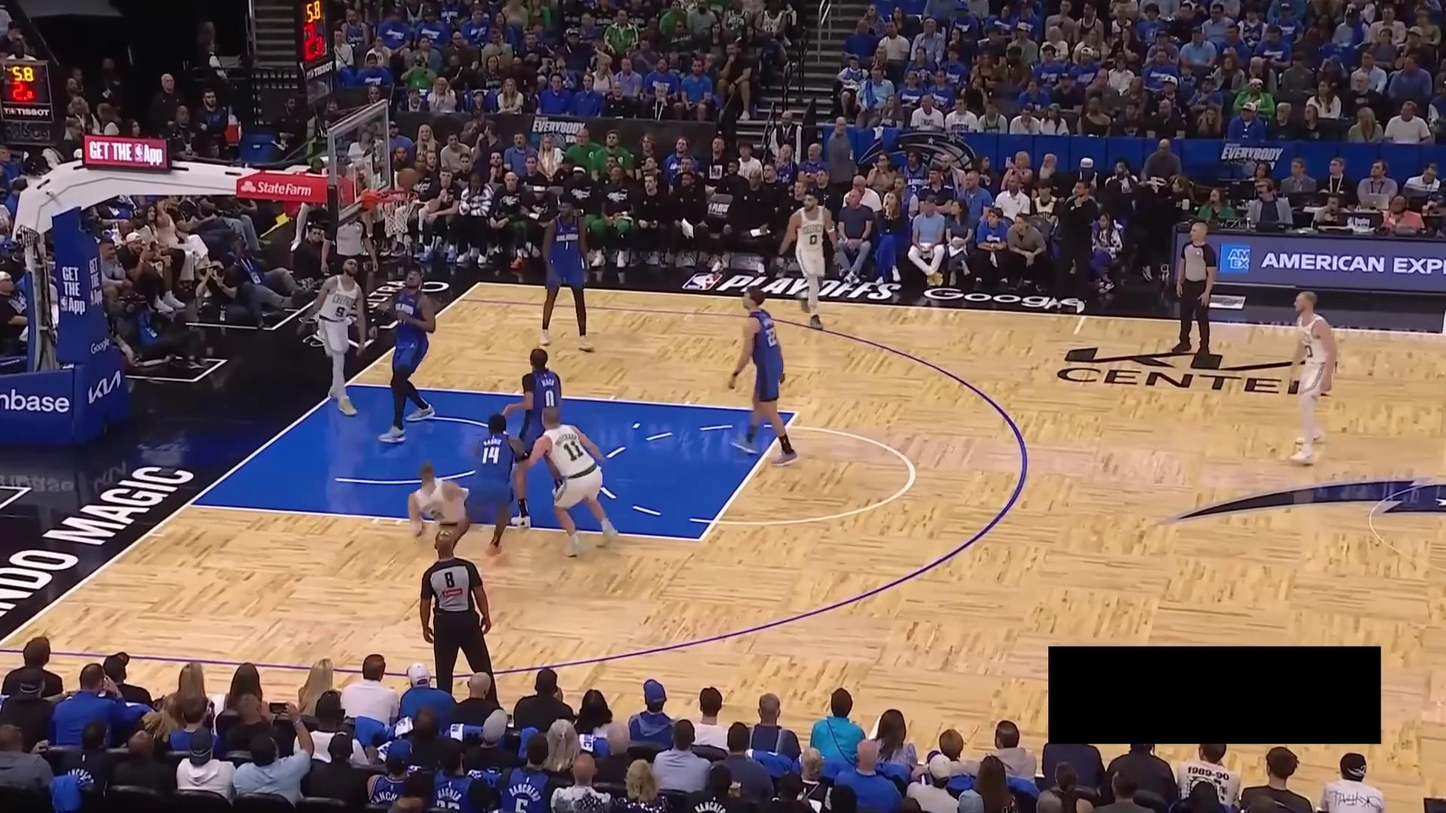ball: (396, 166, 419, 188)
number: (562, 437, 584, 464), (478, 444, 502, 466), (542, 387, 557, 409), (765, 327, 779, 347), (335, 306, 345, 318), (809, 234, 817, 246), (565, 241, 569, 251)
player: (520, 408, 622, 561), (500, 346, 577, 528), (294, 256, 371, 416), (731, 286, 798, 466), (374, 264, 436, 446), (454, 411, 526, 557), (1287, 286, 1340, 471), (536, 196, 598, 352), (777, 184, 841, 331), (406, 463, 480, 540)
referee: (416, 523, 500, 706), (319, 211, 379, 342), (1166, 217, 1218, 356)
rim: (377, 188, 420, 205)
